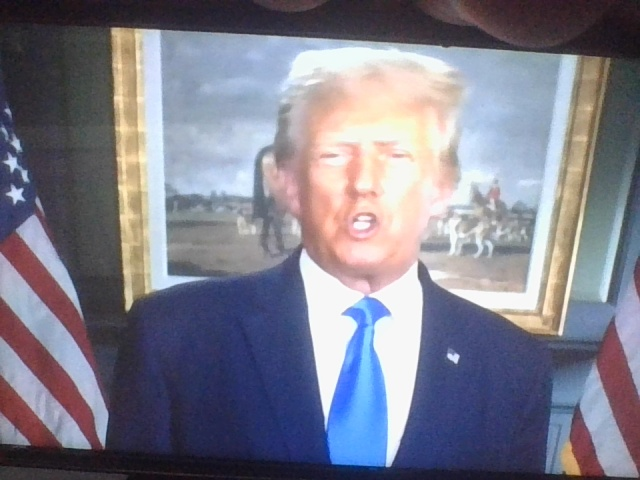fake: (277, 42, 446, 281)
